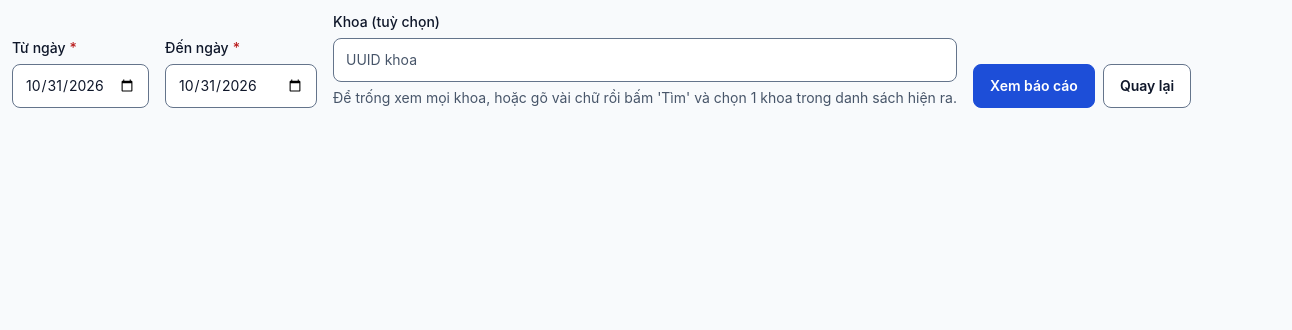
Test: RevenueReport › renders server-reported department totals and a summed footer row
The width and height of the screenshot is (1292, 330).
Click the button "Xem báo cáo": click(1034, 86) [973,64,1095,108]
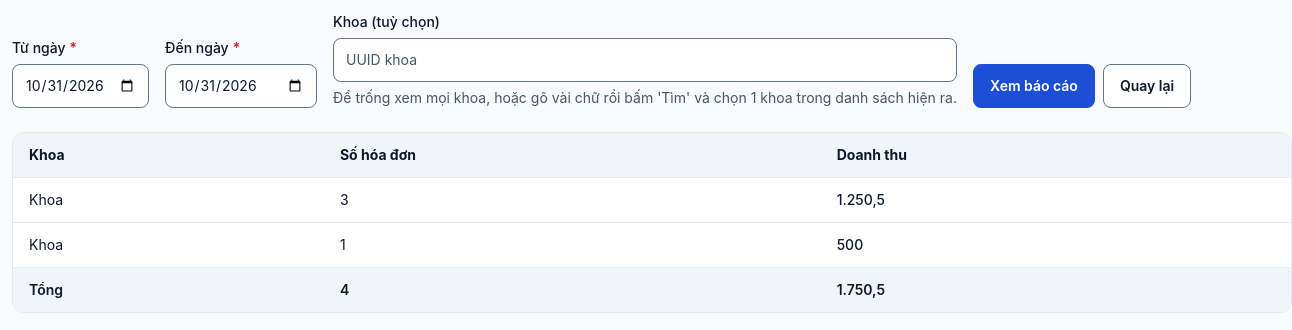
Expected: the text "500" is shown, [821,222,1291,268]
Expected: the text "4" is shown, [324,268,821,312]
